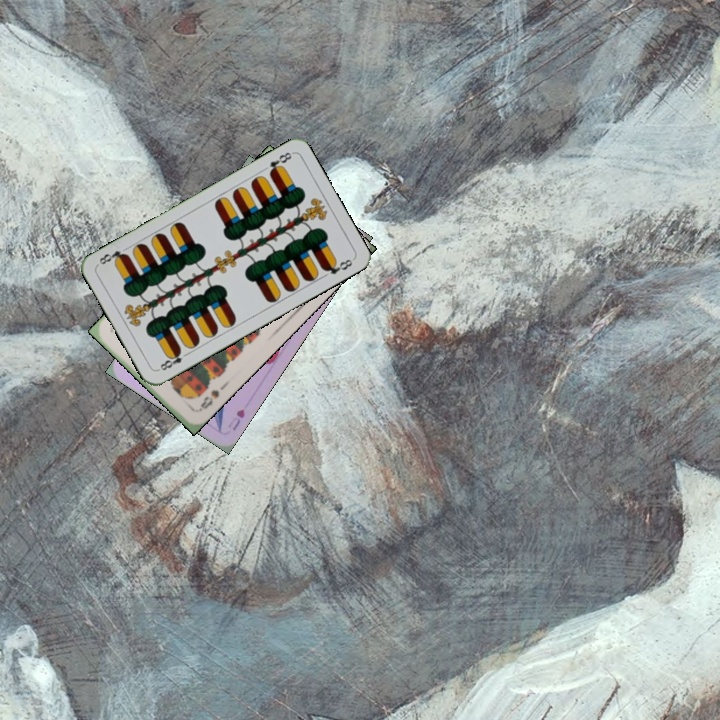E8: (154, 346, 192, 373), (265, 148, 294, 177)
HU: (224, 405, 248, 433)
S8: (189, 386, 222, 415)
